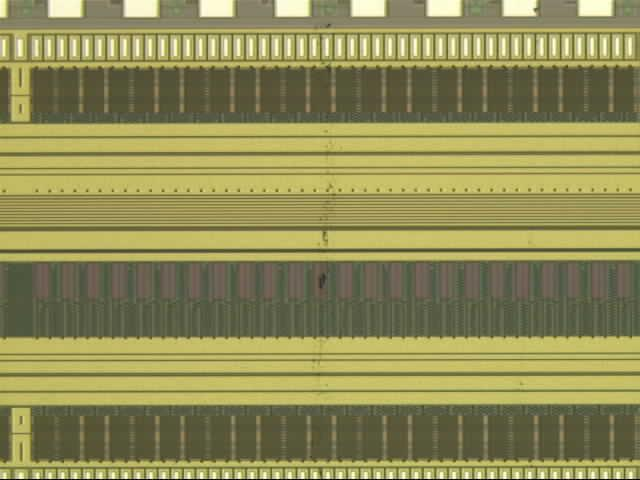SCRATCH: (297, 2, 347, 456)
